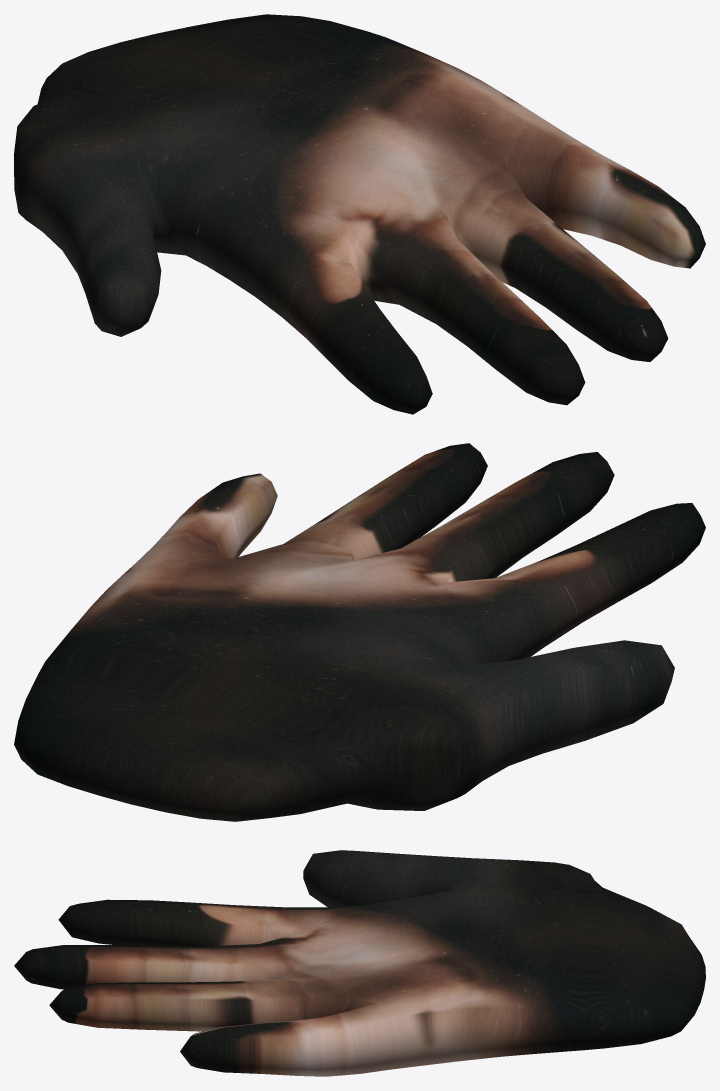
Rendered from 3DHandModel.fbx.
3 views of the same model, one above another, from view 1: azimuth 30°, elevation 25°; view 2: azimuth 150°, elevation 25°; view 3: azimuth 270°, elevation 25° (orthographic). The views are drawn at different scales.
Visible parts, largest first — view 1: Cube; view 2: Cube; view 3: Cube.
Part boxes in pixels (bbox=[...]): Cube: bbox=[14, 14, 705, 414]; Cube: bbox=[14, 443, 705, 821]; Cube: bbox=[14, 850, 705, 1076].
Size of the model in its own units: 259 by 49.57 by 390.
Materials: 1 (1 with a texture image).
